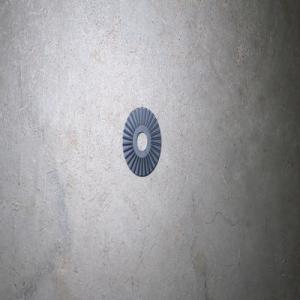Washer: (122, 106, 161, 176)
